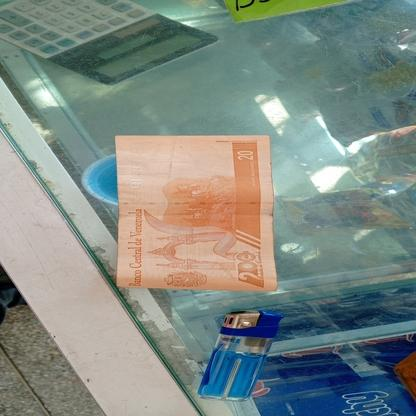twenty-back-vef: (115, 134, 276, 292)
